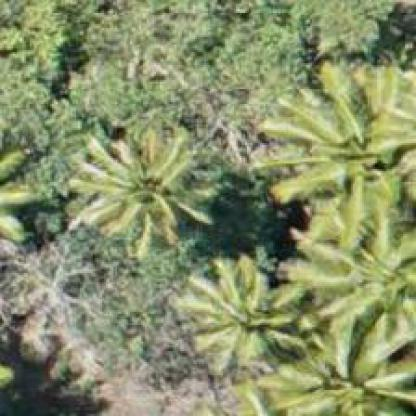coconut tree: (169, 63, 414, 414), (68, 124, 220, 260)
